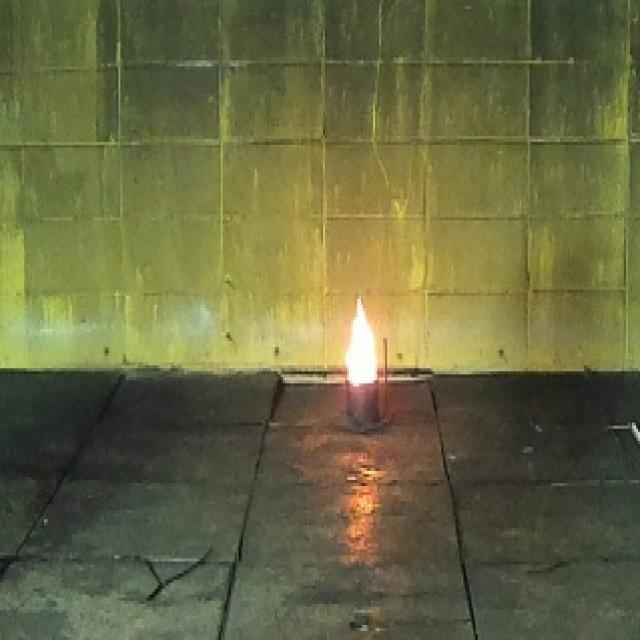Fire: (346, 298, 378, 387)
